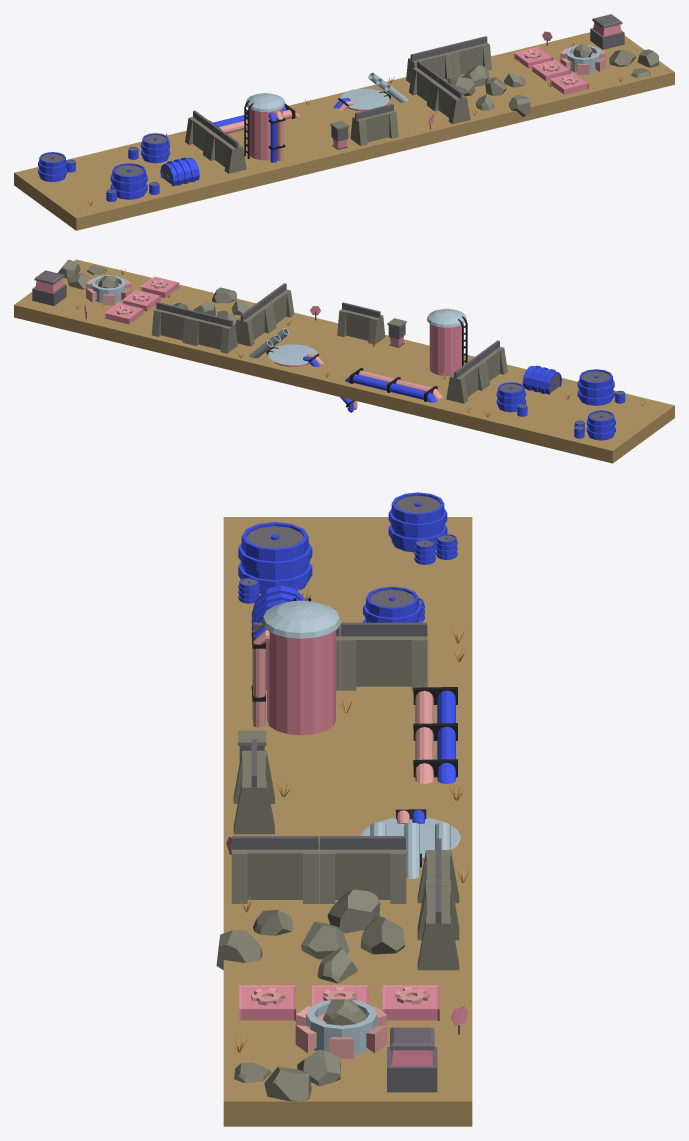
File: Fora-Fabrica-3.glb
The picture shows the model from 3 angles, top to bottom: view 1: azimuth 30°, elevation 25°; view 2: azimuth 150°, elevation 25°; view 3: azimuth 270°, elevation 25°; orthographic projection. The views are drawn at different scales.
Visible parts, largest first — view 1: CHAO.016, SILO.001, MURO.019, MURO.015, MURO.018, MURO.020, BARRIL.018, MURO.016, BLOCO.017, BARRIL.020, MURO.021, MURO.017 (+15 smaller); view 2: CHAO.016, SILO.001, MURO.016, MURO.019, CANO.017, MURO.015, BARRIL.018, MURO.017, MURO.021, BLOCO.017, BARRIL.020, SILO.006 (+12 smaller); view 3: CHAO.016, SILO.001, MURO.017, MURO.020, MURO.021, BARRIL.018, CANO.017, BLOCO.017, MURO.015, MURO.019, BARRIL.017, TUBO.015 (+15 smaller).
Boxes of the visible parts, x1,y1,x2,y2 form: CHAO.016: [14, 32, 674, 230]; SILO.001: [244, 93, 284, 160]; MURO.019: [350, 104, 398, 146]; MURO.015: [448, 36, 491, 77]; MURO.018: [207, 126, 246, 173]; MURO.020: [431, 77, 470, 124]; BARRIL.018: [110, 163, 147, 199]; MURO.016: [406, 45, 453, 82]; BLOCO.017: [590, 14, 624, 49]; BARRIL.020: [160, 157, 199, 186]; MURO.021: [409, 61, 440, 108]; MURO.017: [185, 110, 216, 157]; CHAO.016: [14, 259, 674, 463]; SILO.001: [427, 308, 467, 375]; MURO.016: [189, 311, 237, 353]; MURO.019: [337, 302, 385, 344]; CANO.017: [345, 368, 442, 402]; MURO.015: [151, 302, 195, 344]; BARRIL.018: [577, 369, 614, 405]; MURO.017: [446, 356, 485, 403]; MURO.021: [235, 299, 272, 346]; BLOCO.017: [32, 270, 66, 305]; BARRIL.020: [522, 365, 561, 394]; SILO.006: [266, 344, 317, 366]; CHAO.016: [223, 517, 472, 1126]; SILO.001: [261, 598, 341, 735]; MURO.017: [340, 622, 427, 690]; MURO.020: [231, 836, 318, 903]; MURO.021: [319, 836, 406, 903]; BARRIL.018: [238, 522, 312, 593]; CANO.017: [413, 687, 457, 783]; BLOCO.017: [387, 1027, 437, 1092]; MURO.015: [417, 875, 459, 970]; MURO.019: [233, 739, 274, 834]; BARRIL.017: [388, 492, 447, 552]; TUBO.015: [306, 999, 377, 1054].
Size of the model in its own units: 50 by 7.55 by 9.25.
